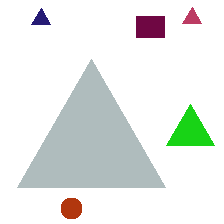circle: (61, 198, 81, 218)
rectangle: (136, 16, 164, 37)
triangle: (17, 59, 165, 187), (166, 104, 214, 145), (182, 7, 201, 23), (31, 8, 50, 24)
